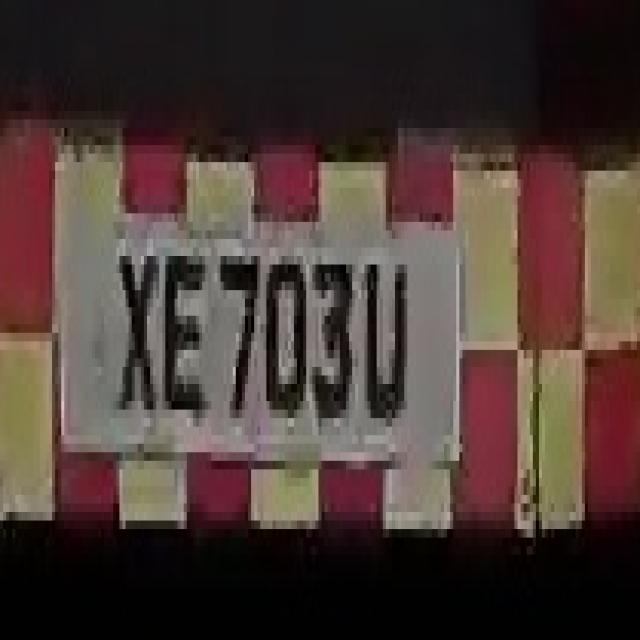0: (270, 222, 310, 418)
3: (306, 248, 362, 418)
7: (208, 222, 260, 444)
E: (162, 213, 212, 452)
U: (352, 222, 413, 435)
X: (114, 205, 160, 461)
